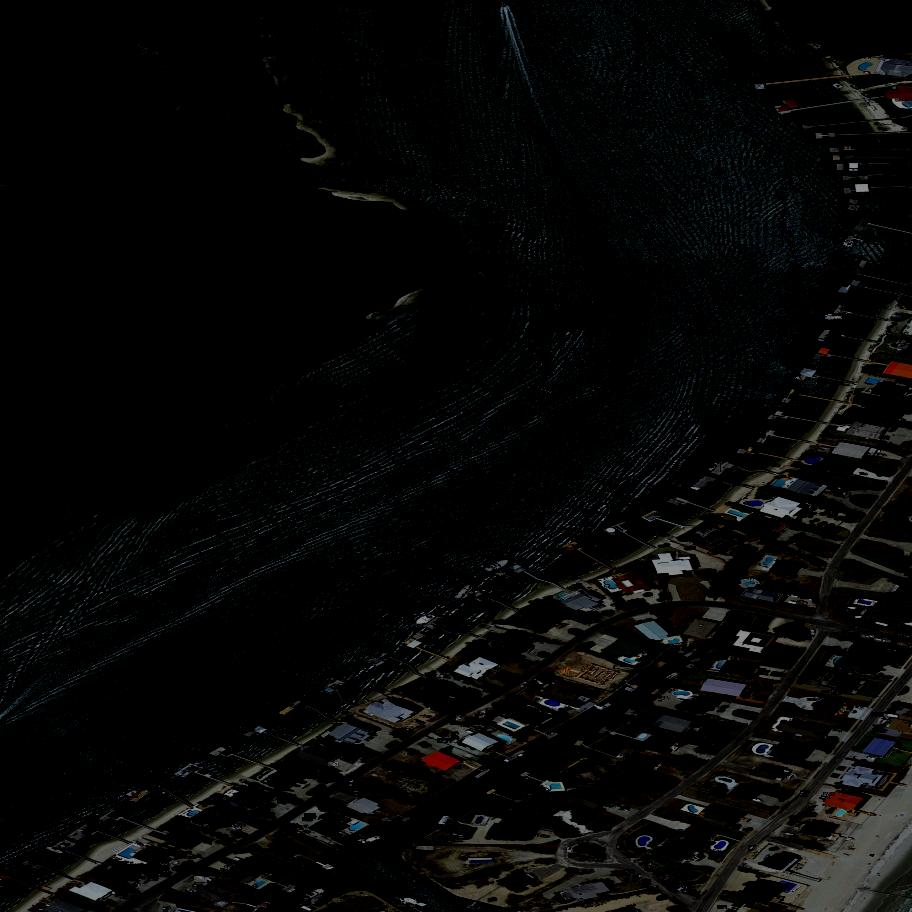ship: (483, 557, 514, 575), (414, 612, 439, 631), (455, 583, 475, 605), (401, 895, 428, 910), (303, 886, 328, 902), (708, 459, 721, 475), (45, 847, 65, 857), (194, 876, 215, 885), (297, 896, 311, 909), (366, 835, 384, 845), (125, 789, 139, 801), (478, 709, 489, 722), (395, 895, 407, 906), (118, 809, 132, 816), (358, 756, 367, 765), (825, 315, 845, 319), (847, 239, 854, 249), (453, 834, 465, 839), (474, 725, 482, 726)
small-vehicle: (623, 869, 635, 878), (675, 885, 687, 894), (147, 874, 159, 882), (437, 737, 449, 744), (304, 813, 316, 820), (171, 860, 180, 869), (457, 715, 467, 723), (520, 681, 530, 689), (874, 637, 887, 643), (578, 840, 589, 847), (626, 853, 637, 860), (794, 620, 805, 627), (798, 601, 809, 608), (800, 790, 809, 798), (872, 712, 884, 718), (643, 878, 651, 887), (683, 886, 691, 895), (832, 728, 842, 735), (659, 875, 669, 882), (348, 780, 358, 787), (663, 878, 674, 884), (750, 844, 758, 852), (646, 864, 654, 872), (657, 872, 666, 879), (654, 870, 663, 877), (841, 630, 851, 636), (806, 698, 818, 703), (800, 596, 812, 601), (648, 868, 658, 874), (204, 825, 216, 830), (850, 624, 860, 630), (644, 862, 652, 869), (569, 851, 576, 859), (451, 719, 458, 727), (631, 858, 642, 863), (302, 817, 313, 822), (868, 627, 877, 633), (185, 889, 194, 895), (527, 689, 536, 695), (902, 643, 912, 648), (831, 691, 841, 696), (717, 905, 727, 910), (449, 737, 459, 742), (689, 889, 696, 896), (633, 873, 640, 880), (812, 597, 819, 604), (575, 853, 583, 859), (329, 762, 337, 768), (459, 721, 467, 727), (860, 618, 866, 626), (116, 894, 125, 899), (621, 806, 630, 811), (694, 890, 700, 897), (453, 731, 459, 738), (164, 905, 170, 912), (437, 674, 451, 677), (819, 797, 827, 802), (809, 805, 819, 809), (763, 682, 771, 687), (610, 802, 618, 807), (237, 823, 247, 827), (876, 453, 886, 457), (636, 862, 648, 865), (605, 804, 614, 808), (666, 881, 678, 884), (278, 798, 284, 804), (852, 632, 859, 637), (220, 868, 227, 873), (841, 617, 852, 620), (579, 858, 587, 862), (822, 795, 830, 799), (827, 736, 837, 739), (844, 492, 850, 497), (533, 679, 543, 682), (821, 690, 830, 693), (806, 635, 811, 640), (749, 547, 757, 550), (193, 884, 201, 887), (863, 636, 874, 638), (855, 706, 862, 709), (617, 844, 621, 849), (824, 793, 834, 795), (568, 848, 573, 852), (593, 859, 603, 861), (225, 866, 235, 868), (811, 629, 815, 634), (847, 610, 856, 612), (869, 622, 874, 625), (357, 791, 364, 793), (859, 473, 866, 475), (754, 684, 759, 686), (894, 633, 904, 634), (234, 826, 242, 827), (891, 641, 898, 642)
